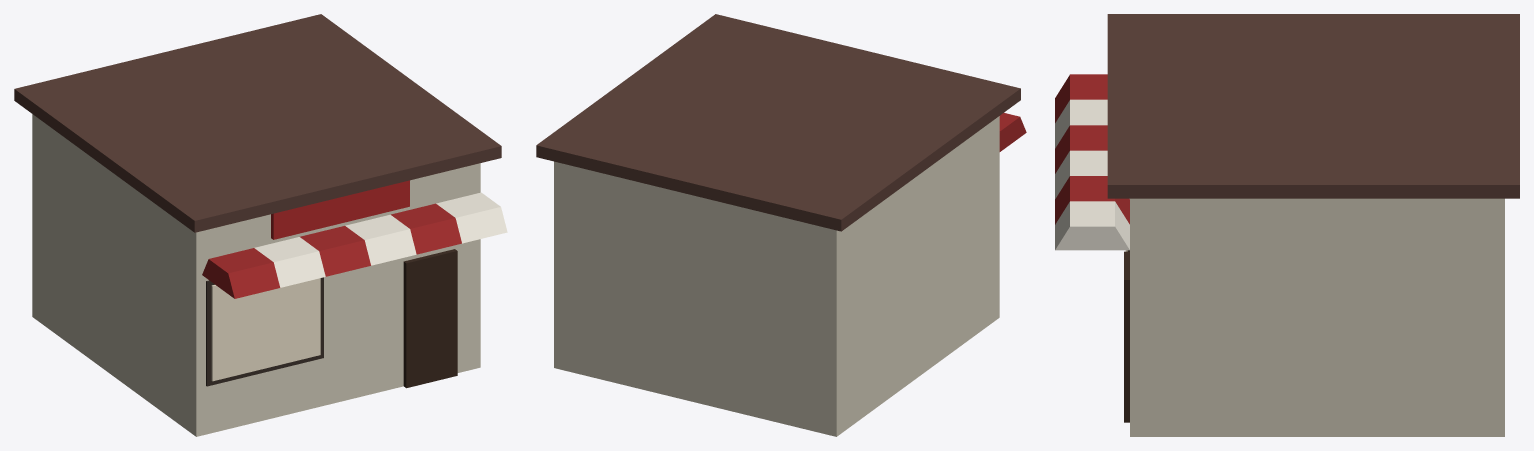
File: macelleria.obj
3 views of the same model, side by side, from view 1: azimuth 30°, elevation 25°; view 2: azimuth 150°, elevation 25°; view 3: azimuth 270°, elevation 25° (orthographic). The views are drawn at different scales.
Parts seen in each view (by area): view 1: parte_01, parte_00, parte_03, parte_06, parte_04, parte_07, parte_05, parte_02; view 2: parte_00, parte_01, parte_06; view 3: parte_00, parte_01, parte_07, parte_06, parte_04.
Boxes of the visible parts, left/top/right/bottom form: parte_01: left=14, top=14, right=501, bottom=232; parte_00: left=32, top=114, right=480, bottom=436; parte_03: left=211, top=278, right=320, bottom=381; parte_06: left=202, top=203, right=461, bottom=298; parte_04: left=403, top=249, right=457, bottom=388; parte_07: left=254, top=192, right=507, bottom=287; parte_05: left=271, top=180, right=409, bottom=239; parte_02: left=206, top=277, right=323, bottom=386; parte_00: left=554, top=116, right=999, bottom=436; parte_01: left=536, top=14, right=1020, bottom=231; parte_06: left=999, top=113, right=1026, bottom=151; parte_00: left=1130, top=198, right=1504, bottom=436; parte_01: left=1107, top=14, right=1519, bottom=198; parte_07: left=1055, top=99, right=1129, bottom=250; parte_06: left=1055, top=74, right=1129, bottom=224; parte_04: left=1124, top=251, right=1129, bottom=422.
Size of the model in its own units: 5.4 by 3.8 by 6.2.
